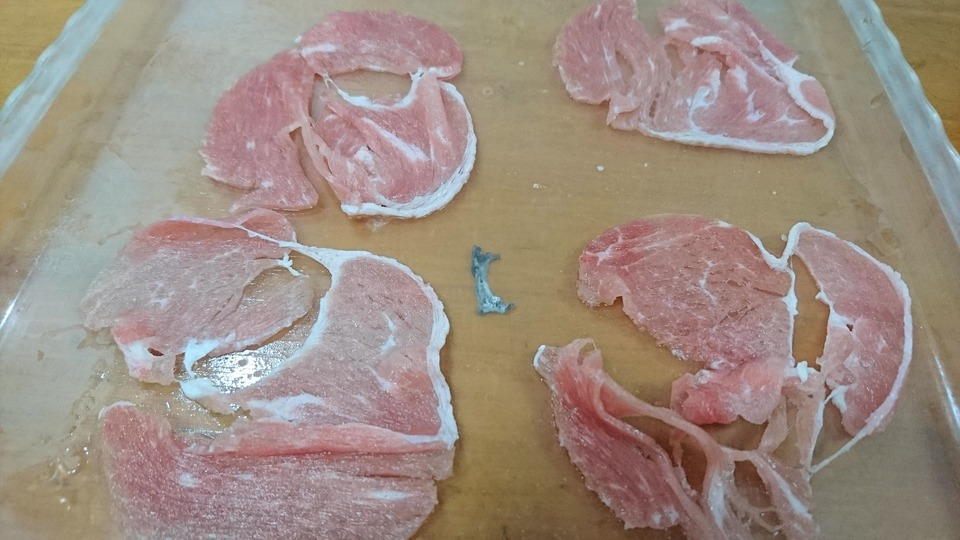restructured meat: (531, 204, 918, 534), (81, 224, 474, 539), (192, 8, 483, 226), (532, 1, 856, 152)
